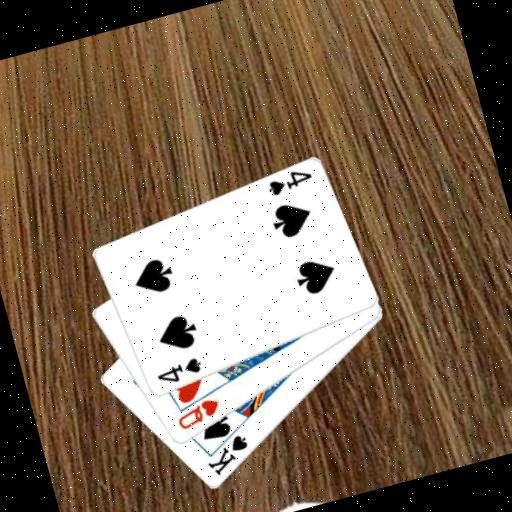4S: (151, 353, 205, 389), (262, 164, 316, 200)
KS: (199, 430, 256, 480)
QH: (171, 394, 225, 433)
